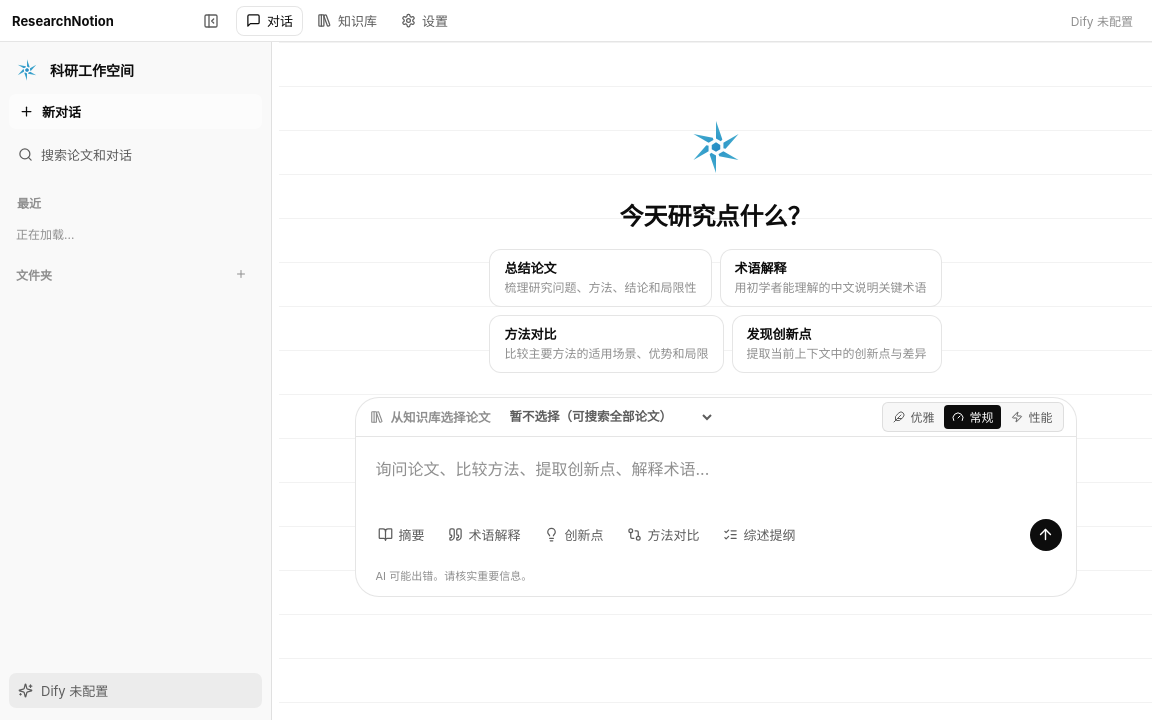
Test: App shell › shows and dismisses a toast after copying an answer
Type "Copy answer" into the text box with placeholder "询问论文、比较方法、提取创新点、解释术语..." at (716,478), box x1=356 y1=437 x2=1076 y2=519
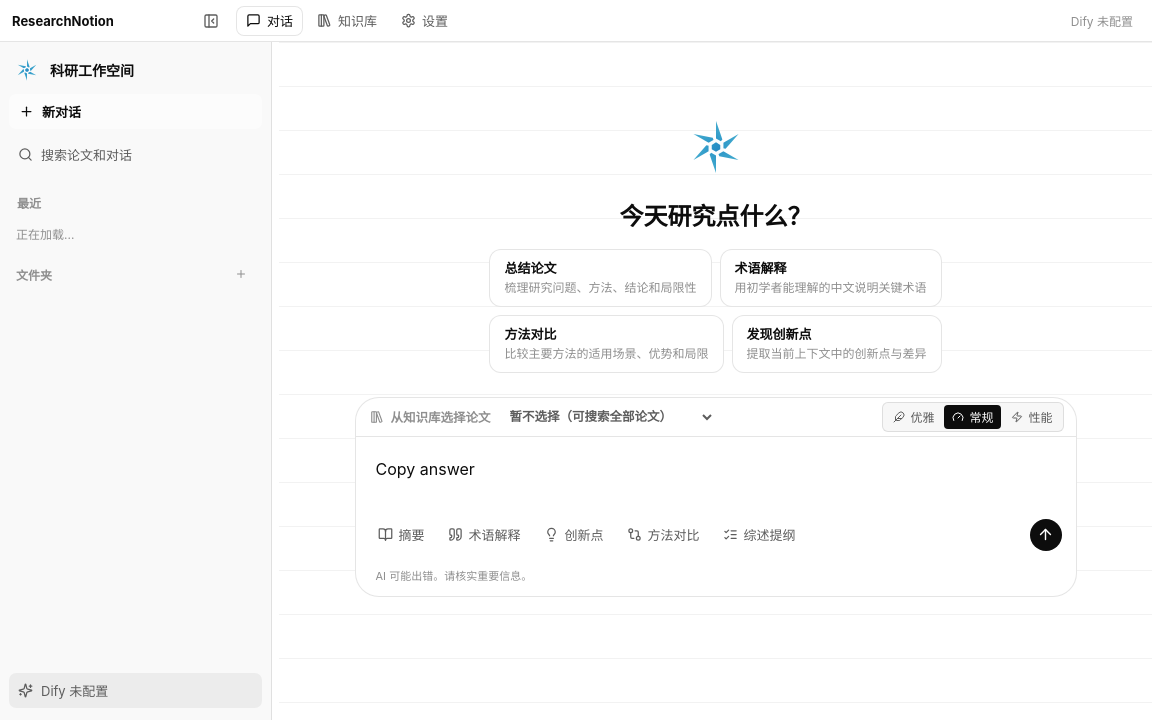
Click the button named "发送" at (1046,535), box x1=1030 y1=519 x2=1062 y2=551
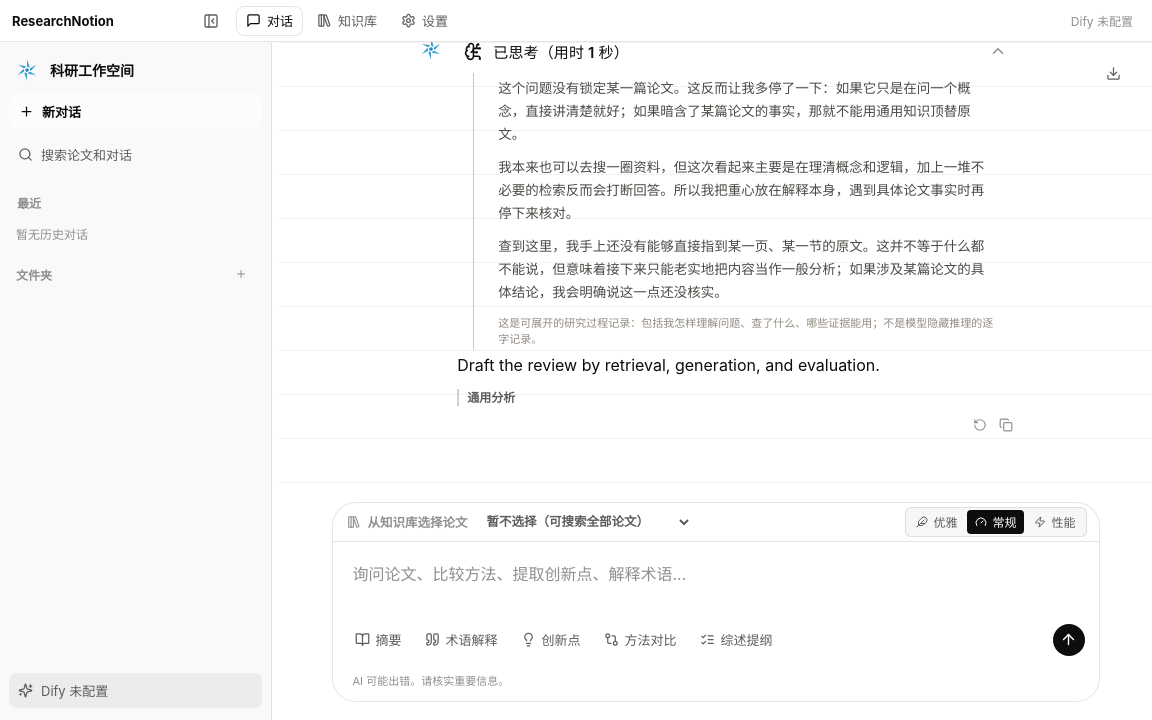
Result: the text "Draft the review by retrieval, generation, and evaluation." is shown at x1=457 y1=355 x2=880 y2=375
Click the button named "复制回答" at (1006,425), box x1=993 y1=412 x2=1019 y2=438
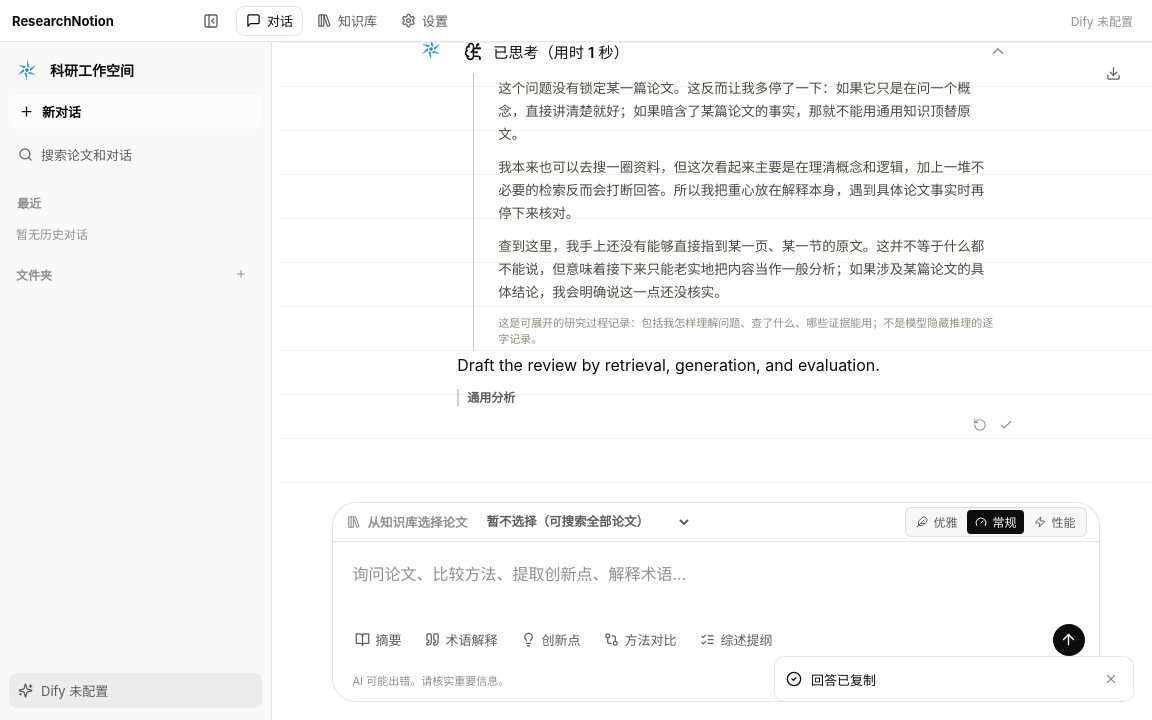
Result: the text "回答已复制" is shown at x1=811 y1=672 x2=876 y2=688
Press Escape
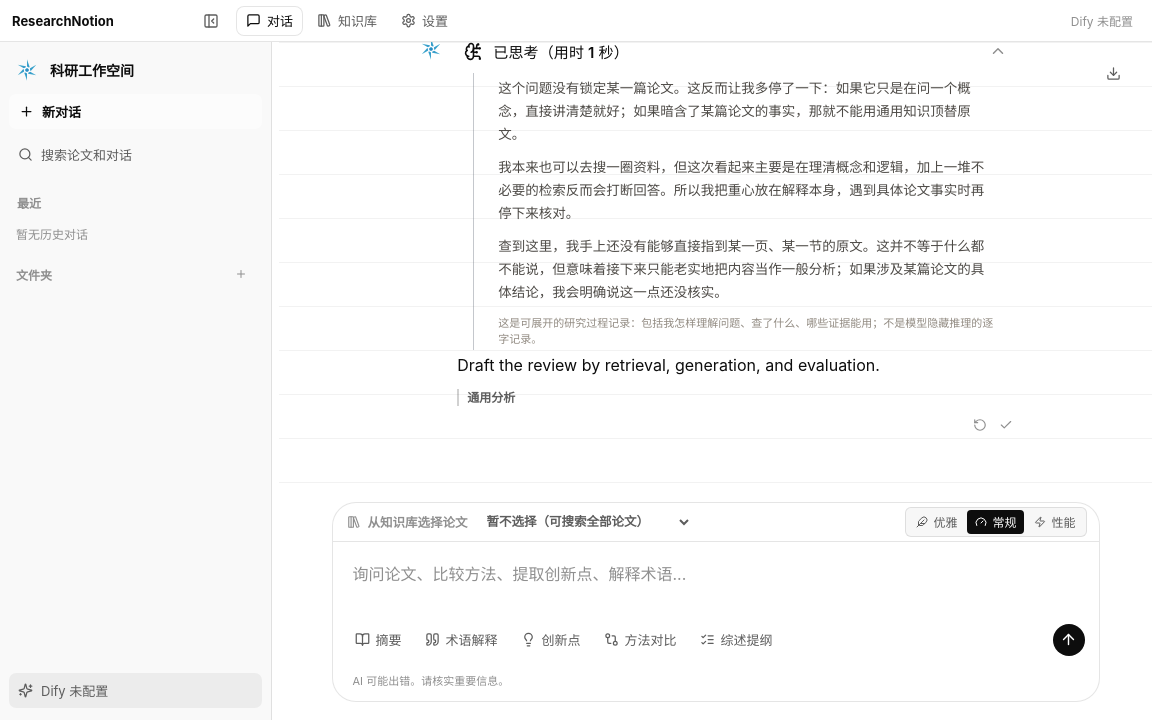
Result: the text "回答已复制" is gone
